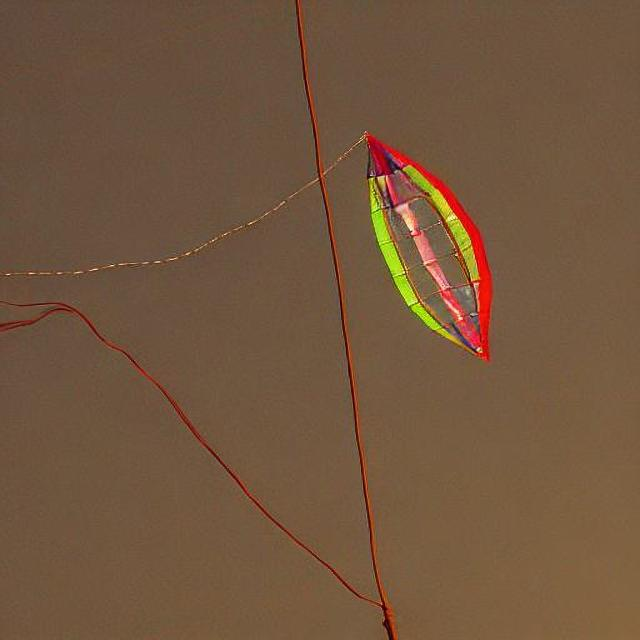floating object: (360, 130, 492, 359)
